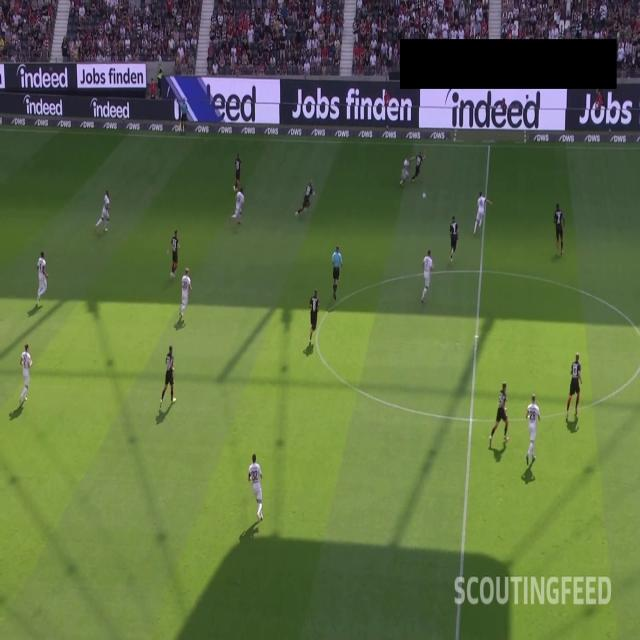ball: (422, 187, 427, 202)
player: (491, 374, 512, 450), (245, 453, 265, 517), (566, 353, 583, 423), (524, 394, 541, 464), (160, 339, 178, 403), (295, 179, 317, 220), (474, 187, 491, 232), (19, 343, 31, 401), (96, 185, 110, 234), (411, 145, 429, 183), (180, 265, 192, 319), (309, 290, 319, 344), (233, 184, 246, 225), (554, 200, 564, 252), (37, 252, 47, 302), (449, 210, 458, 264), (422, 253, 432, 301), (170, 228, 180, 274), (399, 152, 412, 187), (234, 150, 243, 190)
